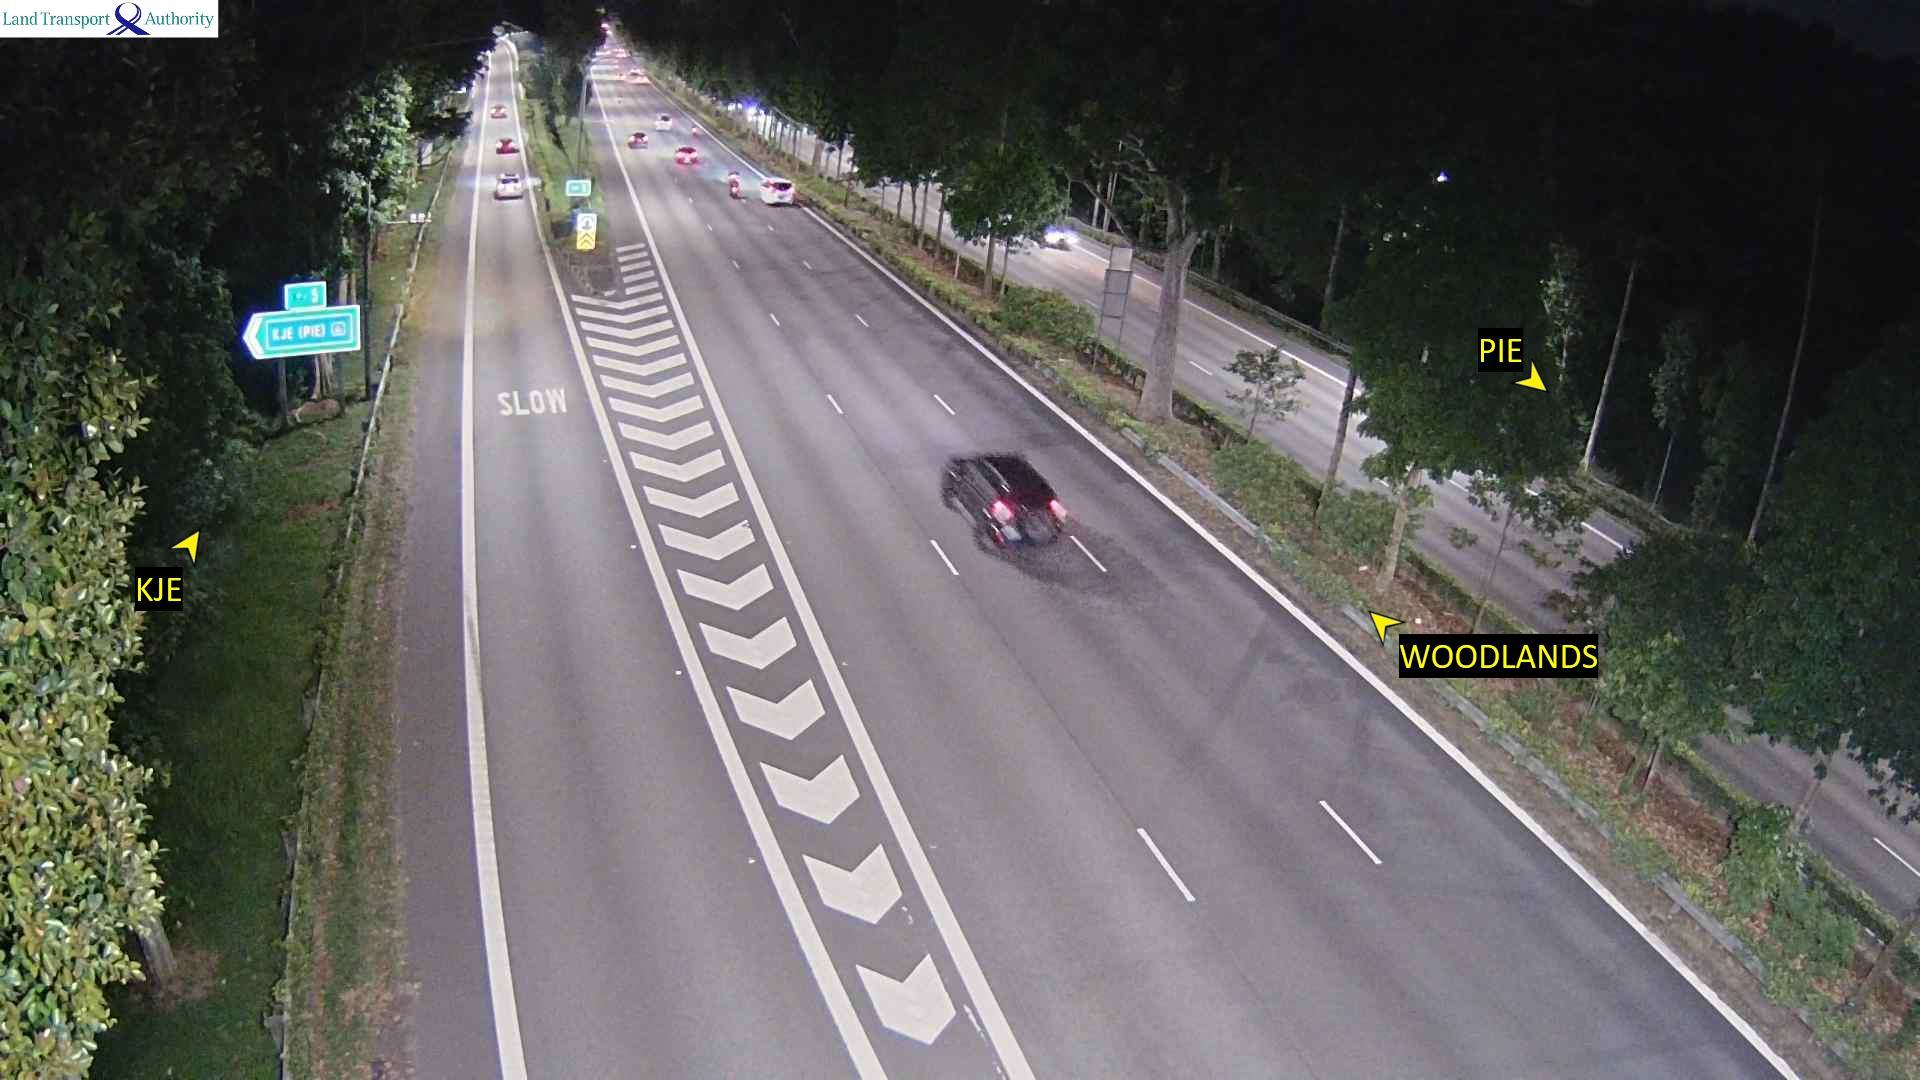cars: (939, 450, 1069, 550), (759, 176, 794, 205), (1039, 223, 1072, 249), (493, 171, 523, 199), (673, 144, 699, 164), (623, 67, 649, 83), (495, 136, 518, 152), (626, 131, 647, 148), (654, 112, 671, 129), (488, 103, 507, 118)
motorcycle: (725, 171, 741, 198), (688, 123, 700, 137)
